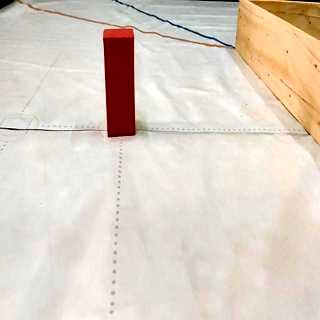redbox: (102, 26, 136, 138)
